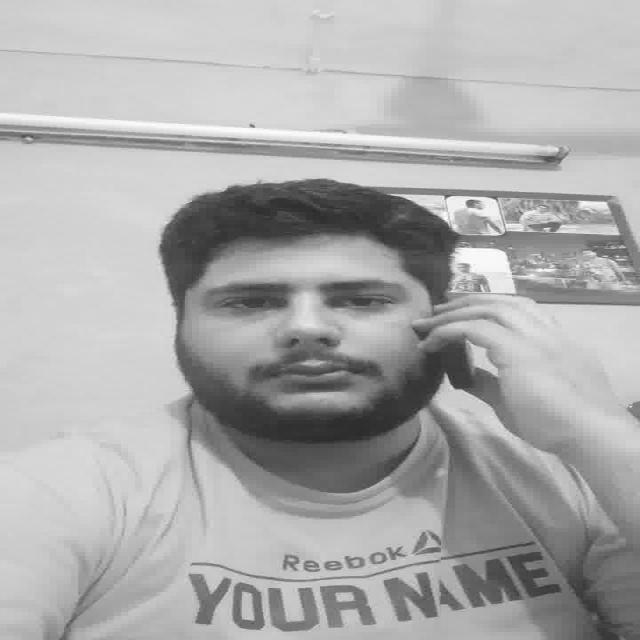fake: (441, 324, 482, 396)
real: (181, 235, 432, 448), (210, 283, 401, 317)
